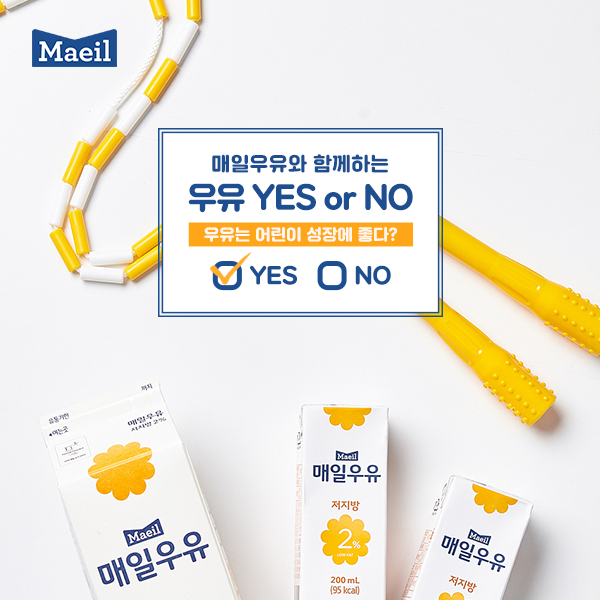milk: (40, 377, 242, 600), (293, 402, 387, 600), (398, 474, 535, 600)
